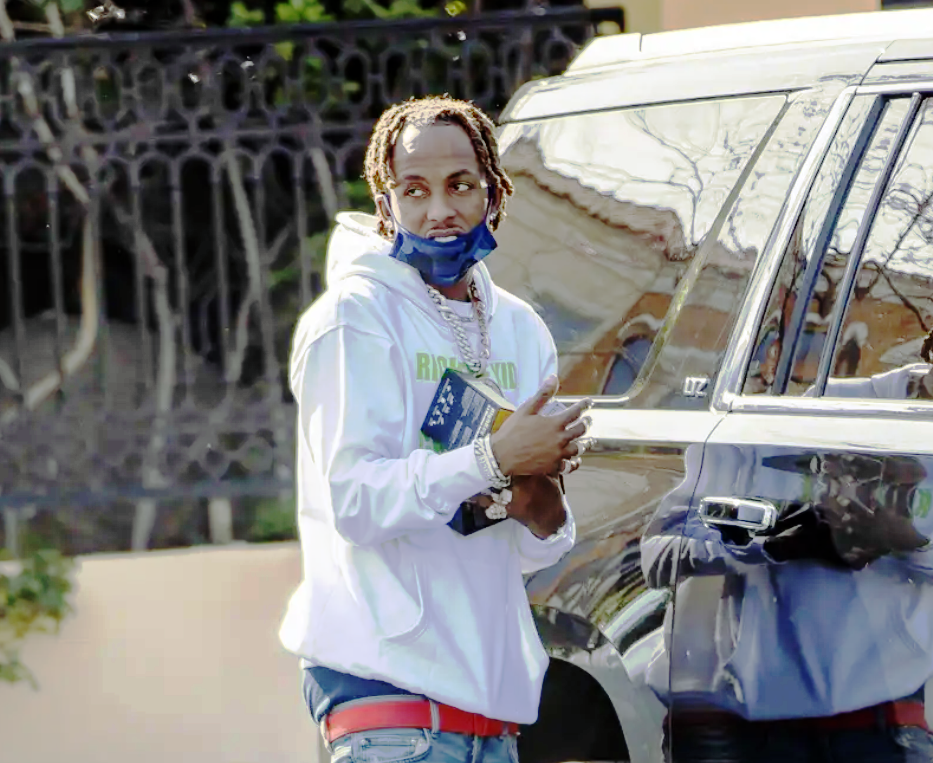mask_weared_incorrect: (366, 97, 512, 288)
